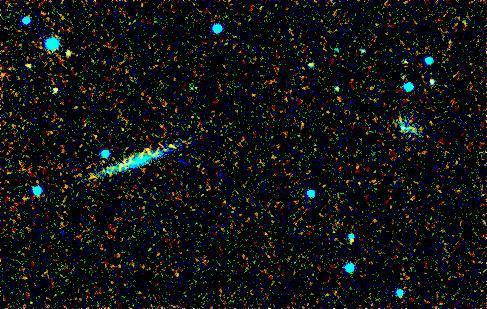star: (153, 133, 183, 163)
